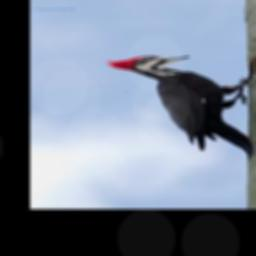Woodpecker: (106, 54, 256, 159)
